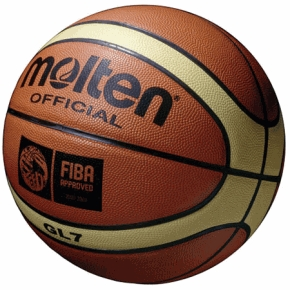basketball: (2, 4, 286, 286)
